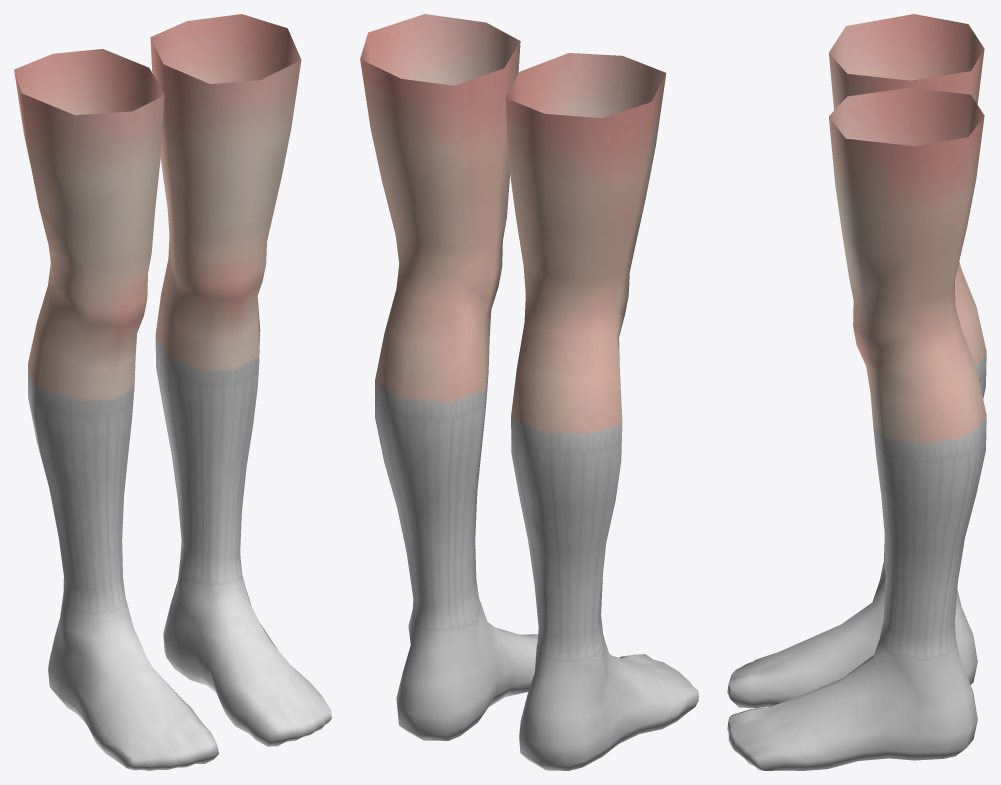
Rendered from p0_lgw1003_00_lgw00.gltf.
3 views of the same model, side by side, from view 1: azimuth 30°, elevation 25°; view 2: azimuth 150°, elevation 25°; view 3: azimuth 270°, elevation 25° (orthographic). The views are drawn at different scales.
Parts seen in each view (by area): view 1: lgw00_legs02_mesh_shape:legs_skin, lgw00_legs00_mesh_shape:legs, lgw00_legs01_mesh_shape:legs_skin, lgw00_legs01_mesh_shape:legs; view 2: lgw00_legs02_mesh_shape:legs_skin, lgw00_legs01_mesh_shape:legs_skin, lgw00_legs00_mesh_shape:legs, lgw00_legs01_mesh_shape:legs; view 3: lgw00_legs00_mesh_shape:legs, lgw00_legs02_mesh_shape:legs_skin, lgw00_legs01_mesh_shape:legs_skin, lgw00_legs01_mesh_shape:legs.
Boxes of the visible parts, x1=… form: lgw00_legs02_mesh_shape:legs_skin: x1=14, y1=14, x2=301, y2=224; lgw00_legs00_mesh_shape:legs: x1=48, y1=500, x2=331, y2=770; lgw00_legs01_mesh_shape:legs_skin: x1=28, y1=156, x2=281, y2=399; lgw00_legs01_mesh_shape:legs: x1=28, y1=334, x2=259, y2=549; lgw00_legs02_mesh_shape:legs_skin: x1=360, y1=14, x2=666, y2=231; lgw00_legs01_mesh_shape:legs_skin: x1=375, y1=171, x2=645, y2=432; lgw00_legs00_mesh_shape:legs: x1=396, y1=541, x2=698, y2=770; lgw00_legs01_mesh_shape:legs: x1=375, y1=373, x2=622, y2=594; lgw00_legs00_mesh_shape:legs: x1=727, y1=536, x2=977, y2=770; lgw00_legs02_mesh_shape:legs_skin: x1=829, y1=14, x2=984, y2=256; lgw00_legs01_mesh_shape:legs_skin: x1=842, y1=228, x2=986, y2=442; lgw00_legs01_mesh_shape:legs: x1=873, y1=352, x2=986, y2=596.
Size of what is drawn, in the model's own units: 0.2758 by 0.6251 by 0.2287.
Materials: 2 (2 with a texture image).
